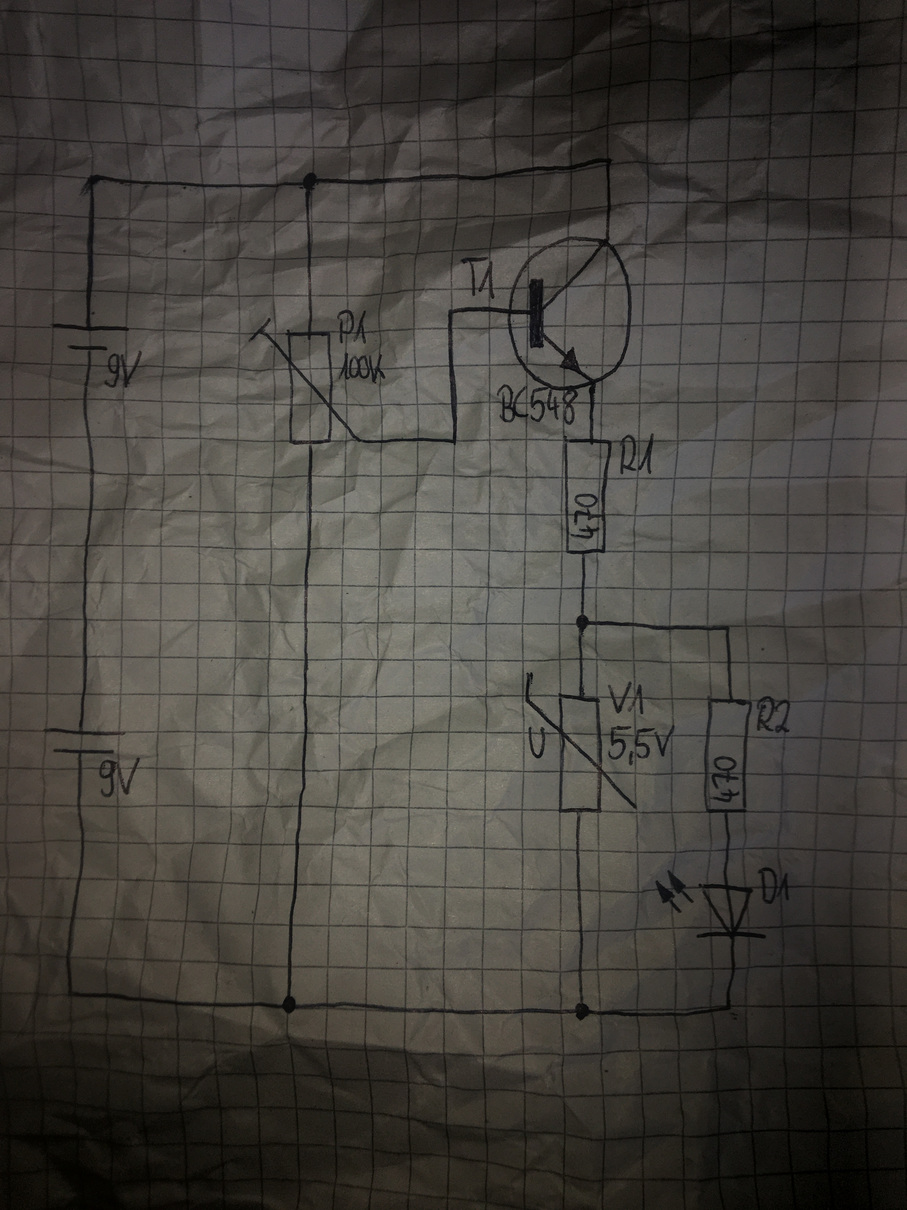diode.light_emitting: (653, 868, 768, 941)
junction: (81, 168, 108, 194), (299, 170, 322, 195), (568, 1001, 594, 1023), (278, 994, 300, 1018), (571, 611, 593, 634), (600, 152, 620, 171), (444, 431, 463, 450), (719, 998, 740, 1014), (443, 303, 461, 321), (720, 619, 737, 638), (62, 987, 79, 1002)
resistor: (557, 431, 617, 558), (697, 692, 755, 822)
resistor.adjustable: (247, 316, 360, 449)
text: (495, 382, 579, 427), (607, 722, 676, 768), (96, 755, 141, 799), (460, 253, 498, 302), (569, 490, 601, 545), (618, 432, 657, 477), (337, 350, 388, 384), (709, 753, 742, 805), (102, 349, 143, 390), (756, 865, 795, 907), (755, 694, 793, 736), (605, 679, 645, 716), (334, 307, 371, 345), (525, 723, 550, 762)
transistor: (505, 235, 637, 392)
varistor: (521, 668, 644, 818)
voltage.dc: (38, 724, 129, 760), (45, 318, 133, 355)
